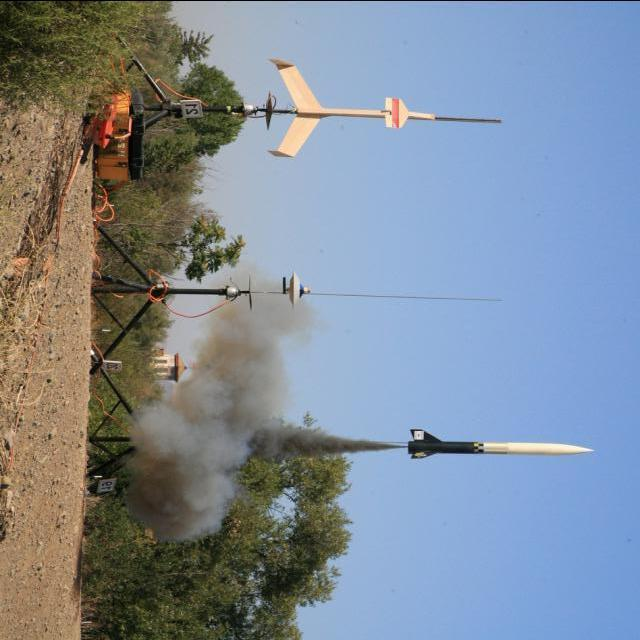missile: (266, 46, 502, 169), (400, 423, 597, 468)
